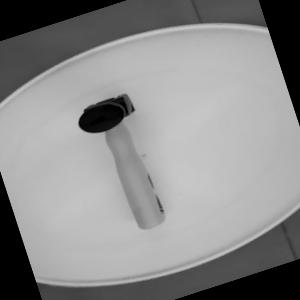martelo: (72, 91, 172, 243)
